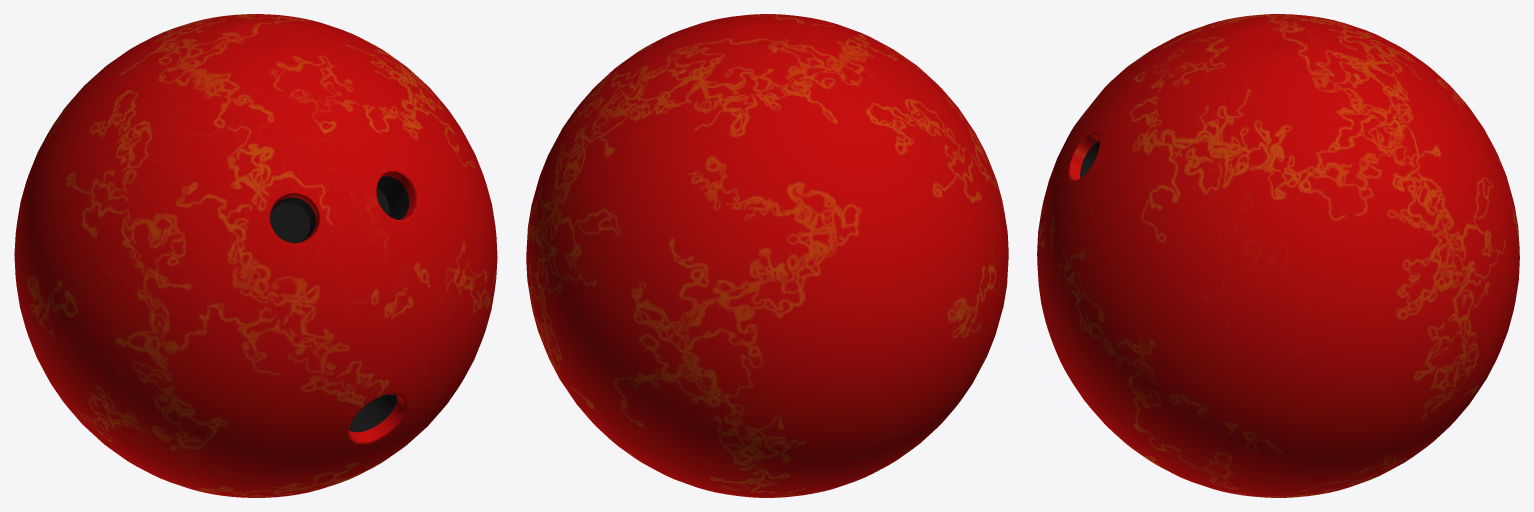
The picture shows the model from 3 angles, left to right: view 1: azimuth 30°, elevation 25°; view 2: azimuth 150°, elevation 25°; view 3: azimuth 270°, elevation 25°; orthographic projection.
Visible parts, largest first — view 1: ball.Shape; view 2: ball.Shape; view 3: ball.Shape.
Boxes of the visible parts, left/top/right/bottom form: ball.Shape: left=14, top=14, right=497, bottom=497; ball.Shape: left=526, top=14, right=1008, bottom=497; ball.Shape: left=1037, top=14, right=1519, bottom=497.
Size of the model in its own units: 0.2398 by 0.2399 by 0.2399.
Materials: 1 (1 with a texture image).
